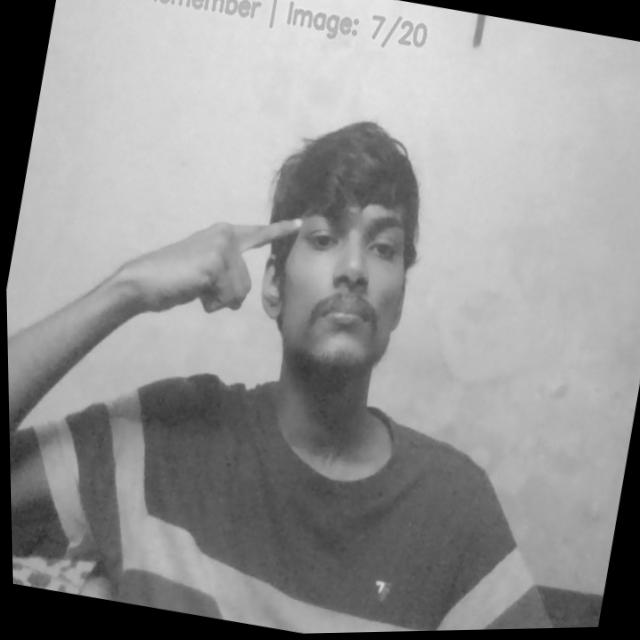Remember: (109, 184, 306, 352)
